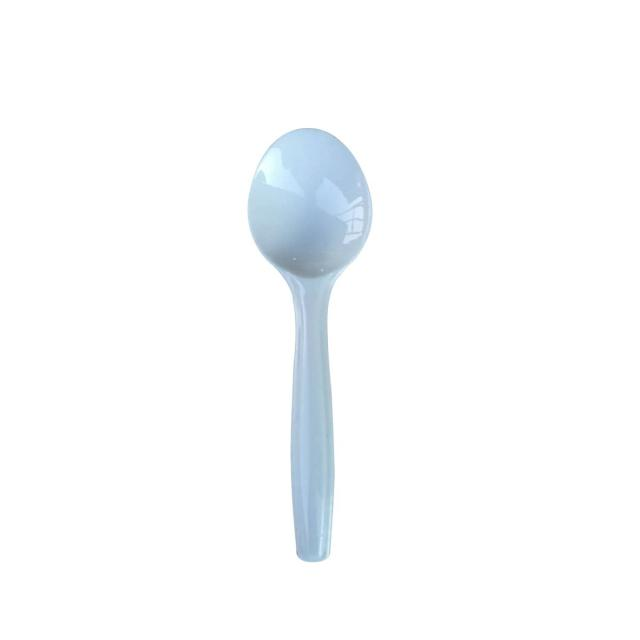spoon: (226, 121, 385, 566)
